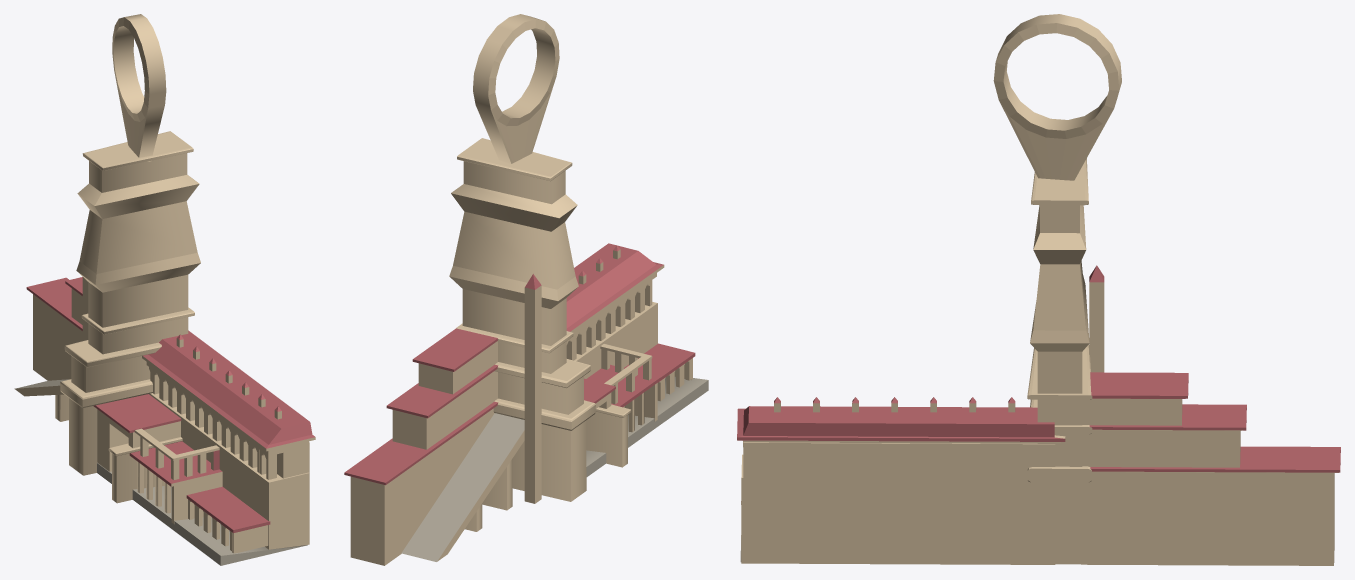
3 renders of one model, left to right at view 1: azimuth 30°, elevation 25°; view 2: azimuth 150°, elevation 25°; view 3: azimuth 270°, elevation 25°, orthographic. The views are drawn at different scales.
Visible parts, largest first — view 1: polySurface269, polySurface259; view 2: polySurface269, polySurface259; view 3: polySurface269, polySurface259.
Boxes of the visible parts, x1,y1,x2,y2 form: polySurface269: (14, 131, 315, 565); polySurface259: (112, 14, 166, 161); polySurface269: (344, 138, 708, 565); polySurface259: (473, 14, 559, 163); polySurface269: (737, 158, 1340, 565); polySurface259: (993, 14, 1121, 180).
Size of the model in its own units: 622 by 2225 by 2329.
